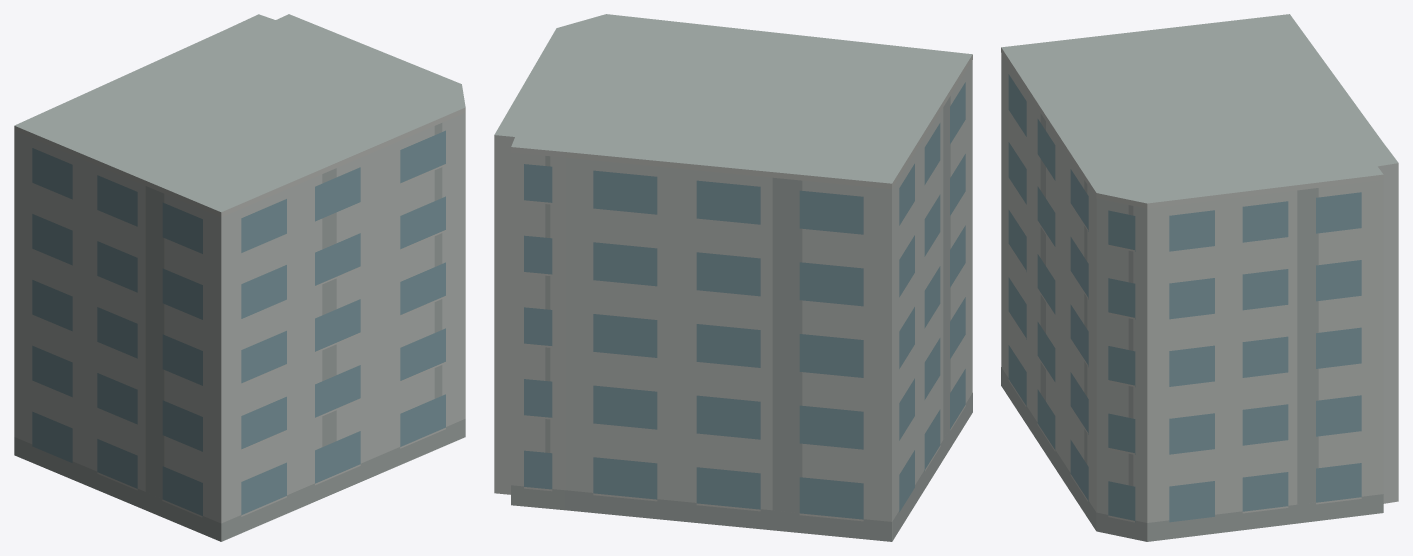
The model's file is survey-upis-32949316.glb.
3 renders of one model, left to right at view 1: azimuth 30°, elevation 25°; view 2: azimuth 150°, elevation 25°; view 3: azimuth 270°, elevation 25°, orthographic. The views are drawn at different scales.
Visible parts, largest first — view 1: survey-upis-32949316.tmp; view 2: survey-upis-32949316.tmp; view 3: survey-upis-32949316.tmp.
Boxes of the visible parts, bbox=[...] form: survey-upis-32949316.tmp: bbox=[14, 14, 465, 541]; survey-upis-32949316.tmp: bbox=[494, 14, 972, 541]; survey-upis-32949316.tmp: bbox=[1001, 14, 1398, 541].
Size of the model in its own units: 18.56 by 15.45 by 16.46.
